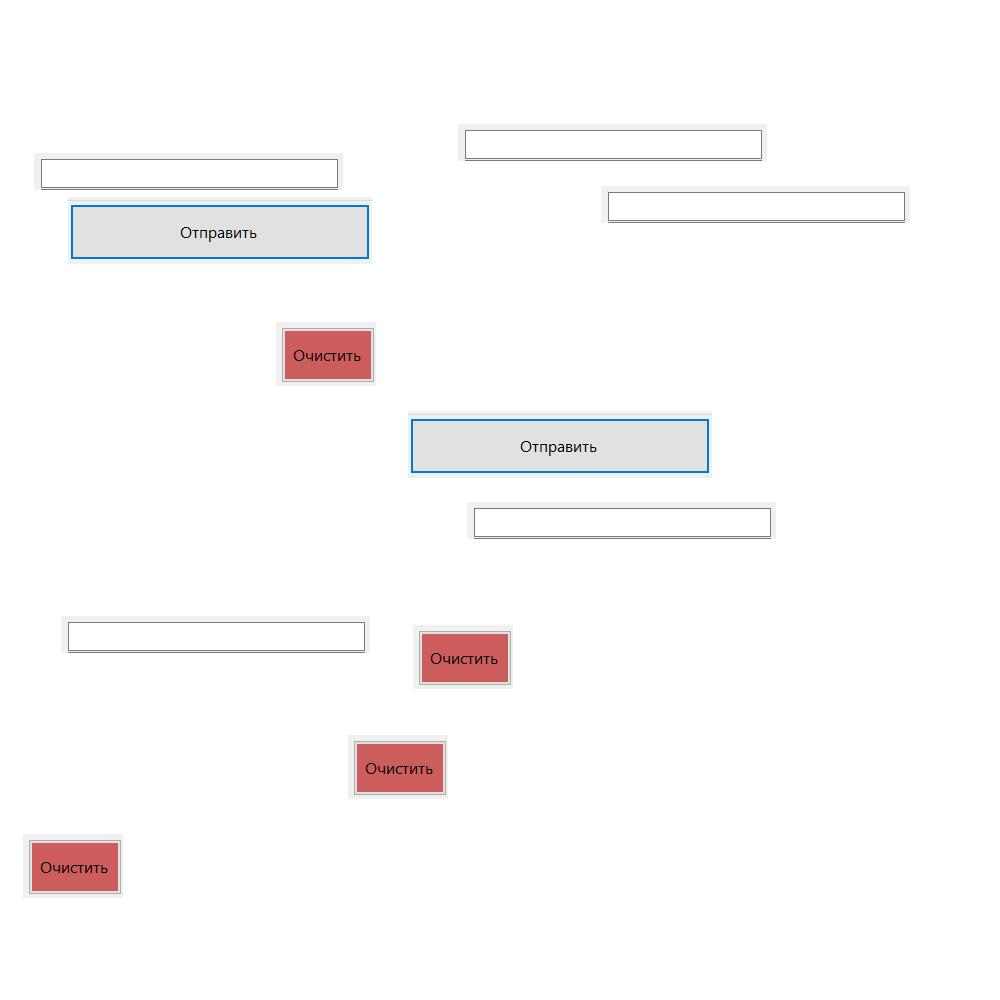Button: (68, 197, 372, 264), (408, 411, 712, 478), (276, 322, 376, 386), (413, 625, 513, 689), (23, 834, 123, 898), (348, 735, 448, 799)
EditText-: (458, 124, 767, 161), (601, 186, 910, 223), (34, 153, 343, 190), (61, 616, 370, 653), (467, 502, 776, 539)
